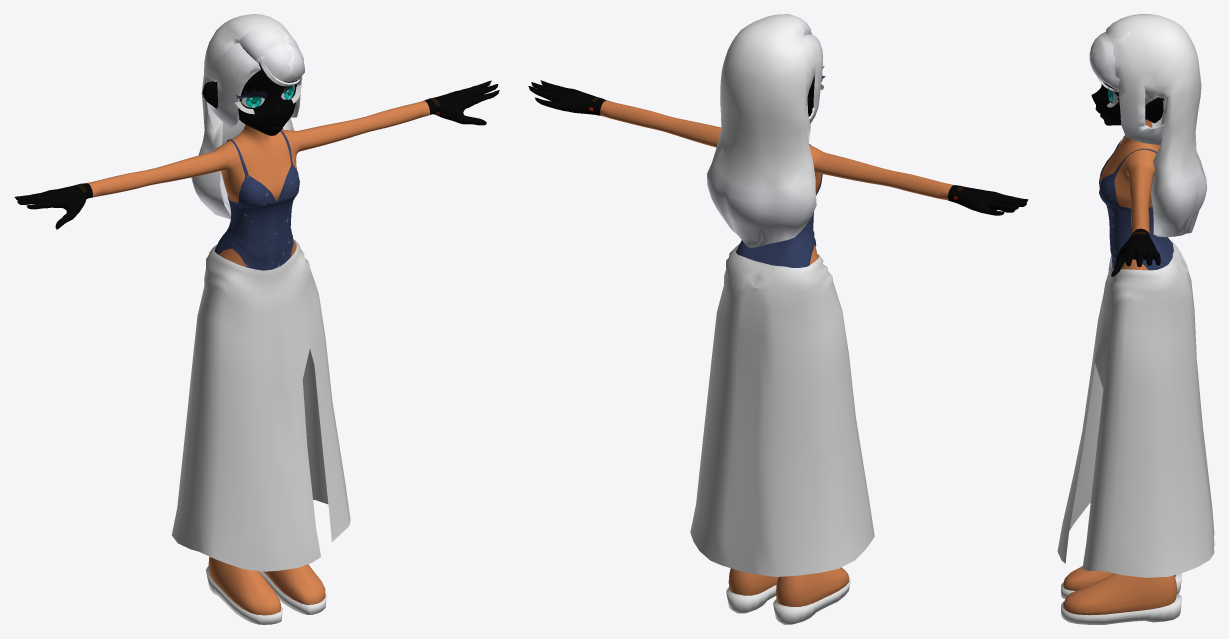
File: exp_daria_textures2.fbx
3 views of the same model, side by side, from view 1: azimuth 30°, elevation 25°; view 2: azimuth 150°, elevation 25°; view 3: azimuth 270°, elevation 25° (orthographic). The views are drawn at different scales.
Parts seen in each view (by area): view 1: JUPE, body, maillot, cheuveux avant, cheveux arriere, tongue; view 2: JUPE, cheveux arriere, body, maillot, tongue, cheuveux avant, tongue 2; view 3: JUPE, cheveux arriere, body, cheuveux avant, maillot, tongue 2.
Boxes of the visible parts, x1,y1,x2,y2 form: JUPE: (171,239,350,571); body: (14,47,499,615); maillot: (214,130,299,270); cheuveux avant: (210,26,304,127); cheveux arriere: (191,14,293,219); tongue: (206,566,282,624); JUPE: (690,244,874,576); cheveux arriere: (707,14,816,247); body: (528,75,1028,606); maillot: (736,144,822,267); tongue: (773,578,850,624); cheuveux avant: (778,14,823,123); tongue 2: (726,585,776,613); JUPE: (1057,240,1214,577); cheveux arriere: (1127,14,1206,237); body: (1063,83,1176,615); cheuveux avant: (1089,16,1164,145); maillot: (1099,135,1173,270); tongue 2: (1061,594,1181,624).
Bounding box in the file's own units: 1520 × 1721 × 417.
